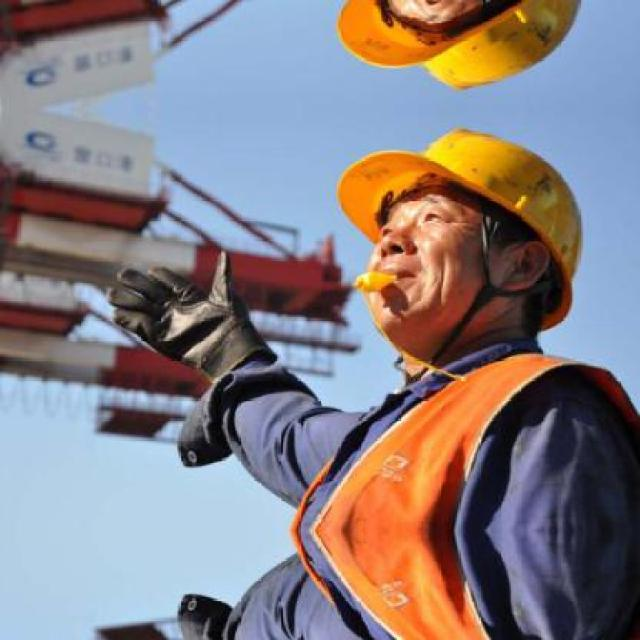helmet: (323, 114, 609, 366), (323, 0, 611, 102)
